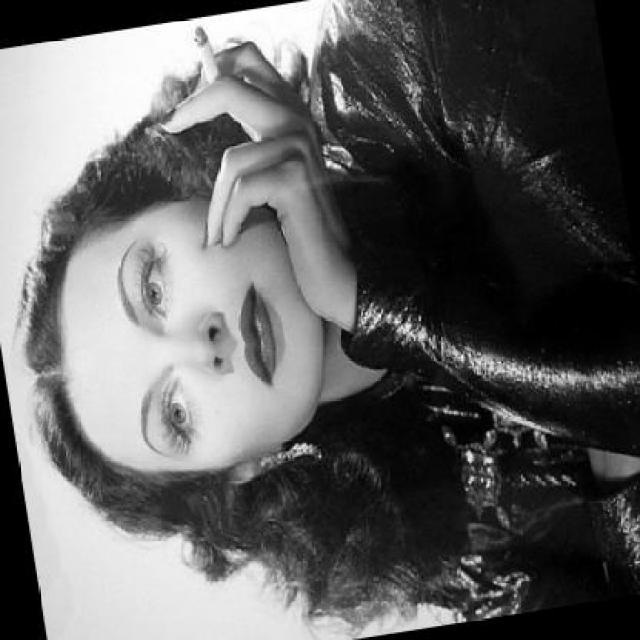cigarette: (188, 19, 227, 90)
